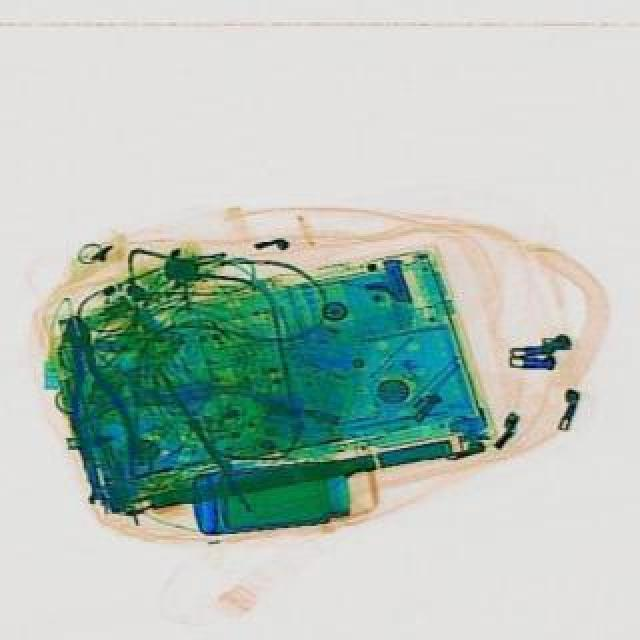scissors: (74, 442, 106, 506)
wrench: (44, 310, 140, 486)
